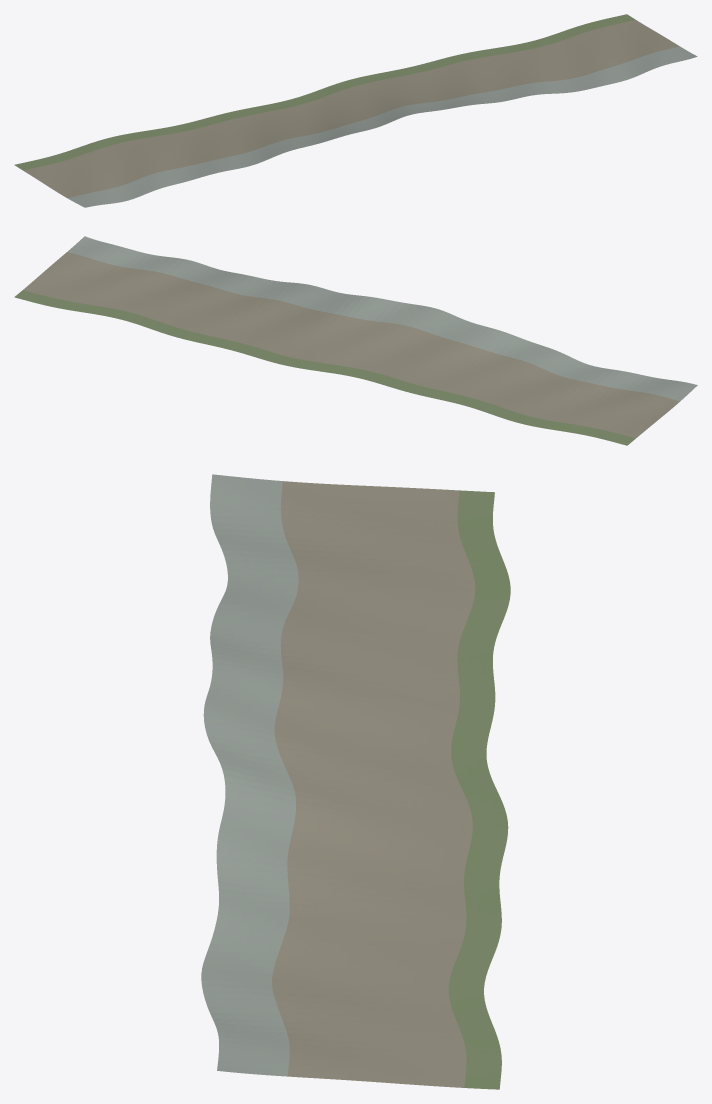
Rendered from RiversideBanks.fbx.
3 renders of one model, top to bottom at view 1: azimuth 30°, elevation 25°; view 2: azimuth 150°, elevation 25°; view 3: azimuth 270°, elevation 25°, orthographic. The views are drawn at different scales.
Visible parts, largest first — view 1: CinemaShore_Surface__UnityExport; view 2: CinemaShore_Surface__UnityExport; view 3: CinemaShore_Surface__UnityExport.
Part boxes in pixels (x1,y1,x2,y2): CinemaShore_Surface__UnityExport: (14,14,697,207); CinemaShore_Surface__UnityExport: (14,236,697,445); CinemaShore_Surface__UnityExport: (201,474,510,1089).
Bounding box in the file's own units: 360 × 11.16 × 78.77.
